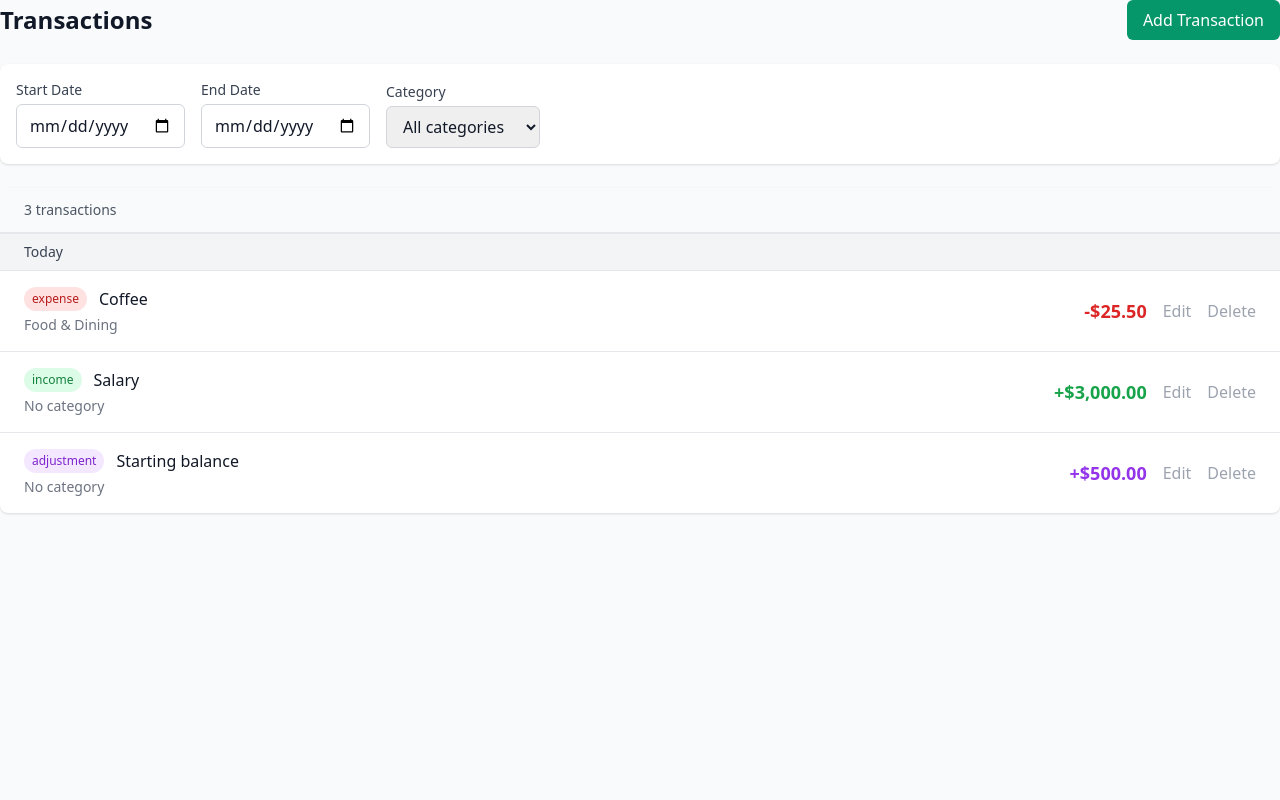
Scenario: TransactionsPage › shows helper text when adjustment type is selected
Click the button "Add Transaction": x=1203, y=20 [1127, 0, 1279, 40]
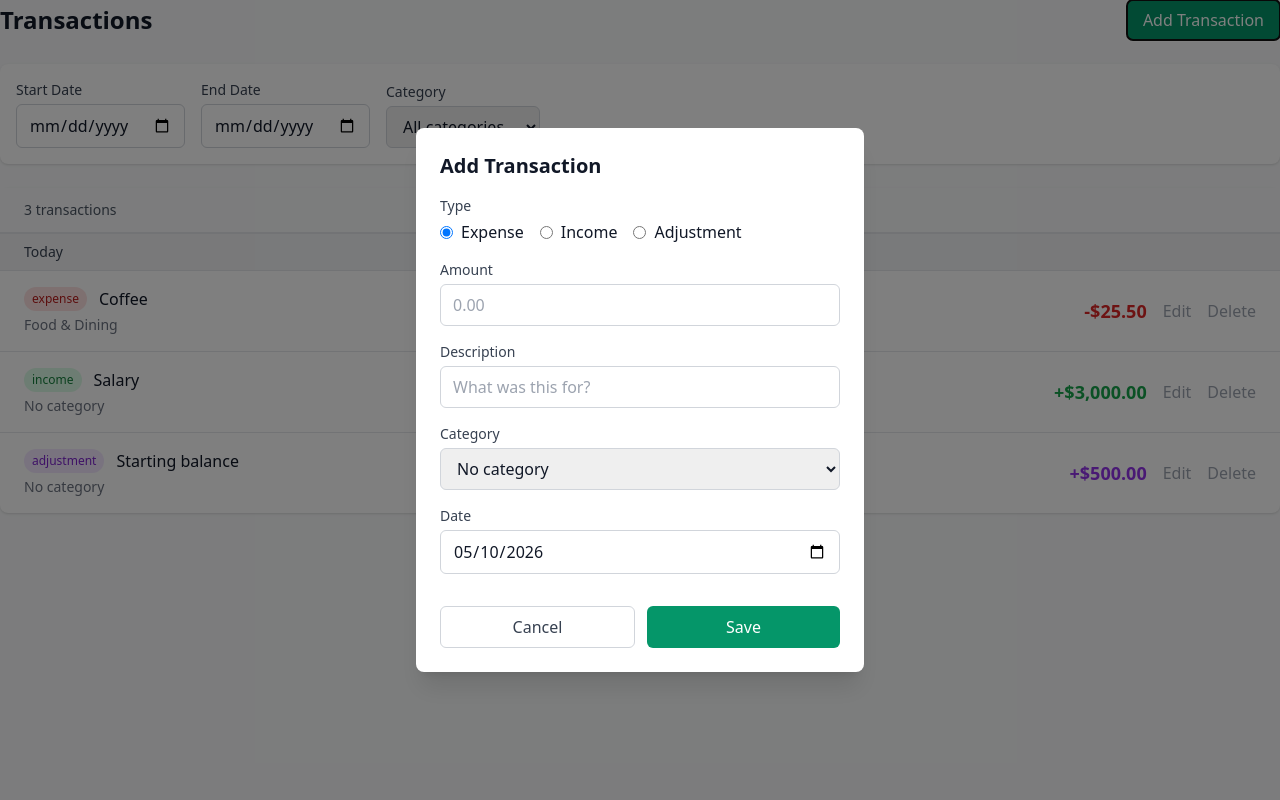
Check: the radio button labelled "Adjustment" is shown
Click the radio button labelled "Adjustment": x=640, y=232 [634, 226, 646, 238]
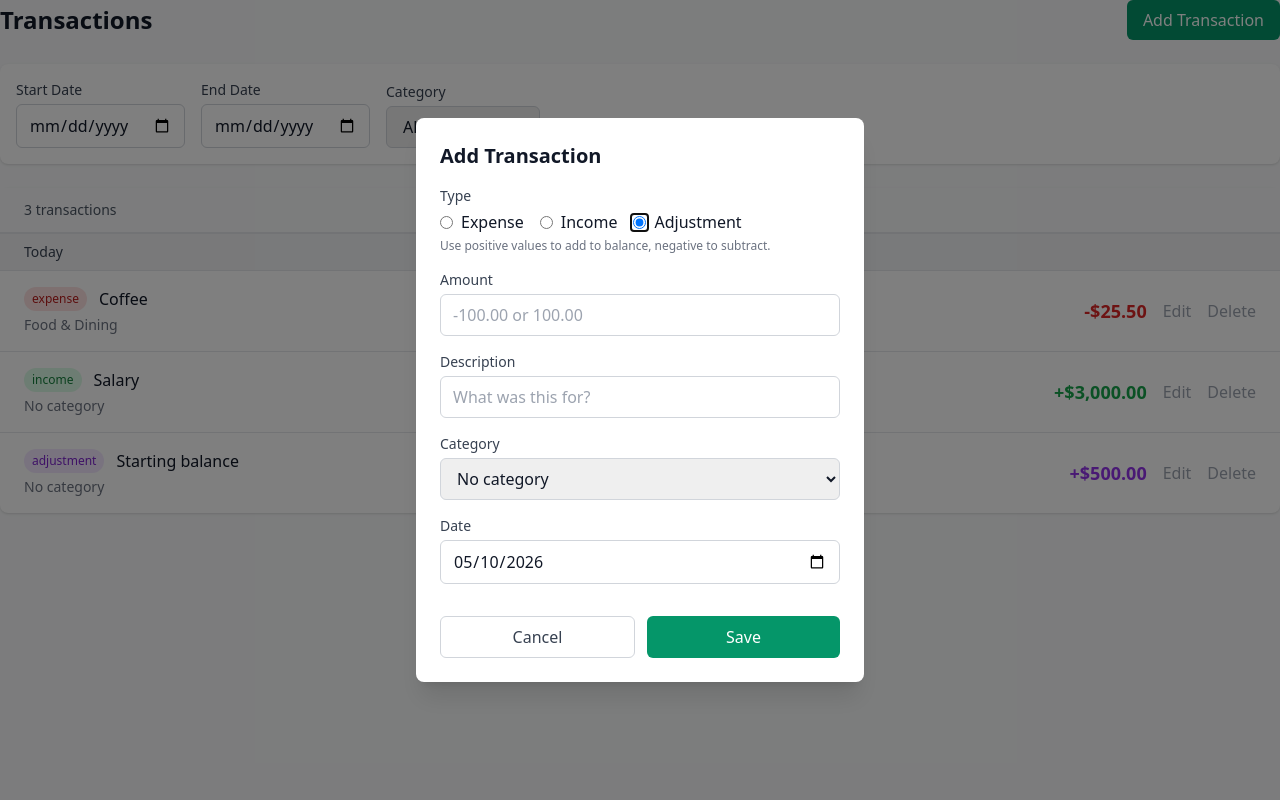
Check: the text "Use positive values to add to balance, negative to subtract." is shown, box [440, 237, 771, 254]
